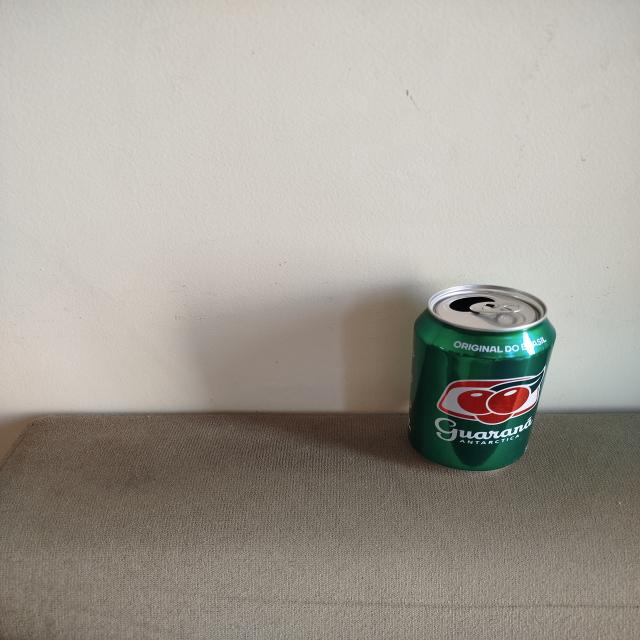Guarana: (410, 283, 556, 473)
